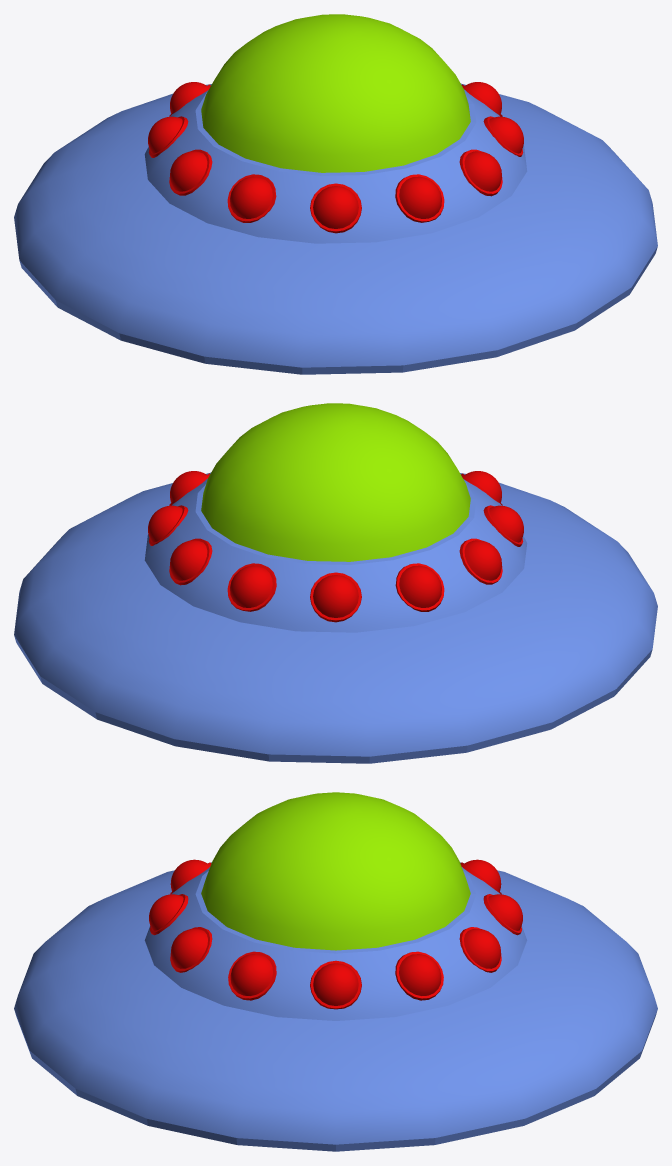
File: UFO_004.fbx
3 views of the same model, one above another, from view 1: azimuth 30°, elevation 25°; view 2: azimuth 150°, elevation 25°; view 3: azimuth 270°, elevation 25° (orthographic).
Visible parts, largest first — view 1: Hull, Dome, Top_Hull, TopHubs; view 2: Hull, Dome, Top_Hull, TopHubs; view 3: Hull, Dome, Top_Hull, TopHubs.
Boxes of the visible parts, bbox=[...] form: Hull: bbox=[14, 83, 657, 374]; Dome: bbox=[201, 14, 470, 172]; Top_Hull: bbox=[144, 89, 527, 243]; TopHubs: bbox=[148, 82, 523, 233]; Hull: bbox=[14, 472, 657, 763]; Dome: bbox=[201, 403, 470, 561]; Top_Hull: bbox=[144, 478, 527, 632]; TopHubs: bbox=[148, 471, 523, 622]; Hull: bbox=[14, 862, 657, 1151]; Dome: bbox=[201, 792, 470, 950]; Top_Hull: bbox=[144, 867, 527, 1020]; TopHubs: bbox=[149, 859, 522, 1009].
Bounding box in the file's own units: 2 × 2 × 0.9265.
